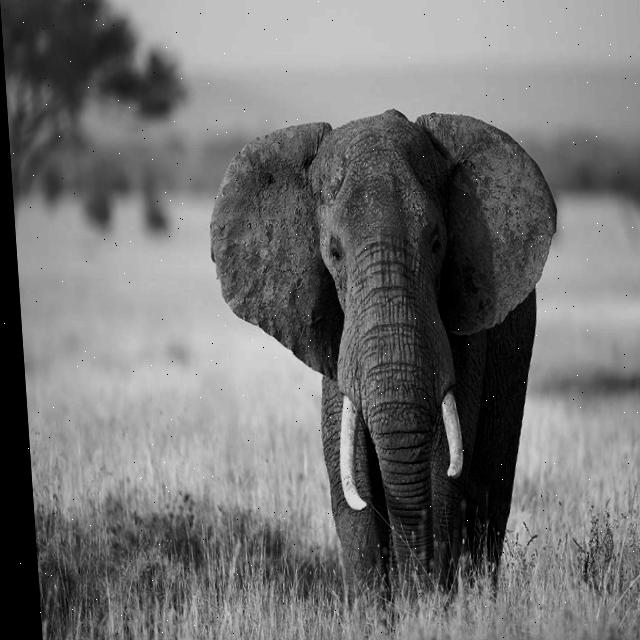Elephant: (200, 107, 584, 616)
